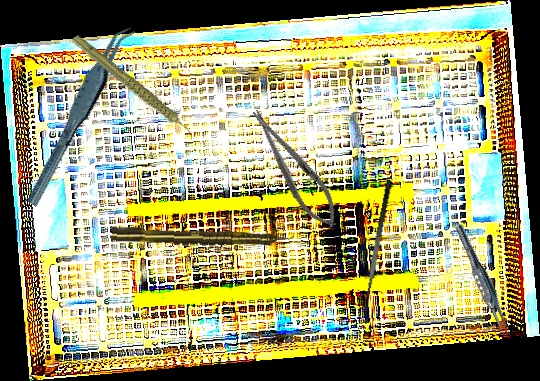Handpiece: (70, 14, 196, 163), (111, 225, 294, 249)
Needle Holder: (241, 101, 348, 236)
Spatula Surgical: (356, 179, 405, 318)
Tissue Forceps: (6, 21, 153, 209), (449, 221, 518, 343)
